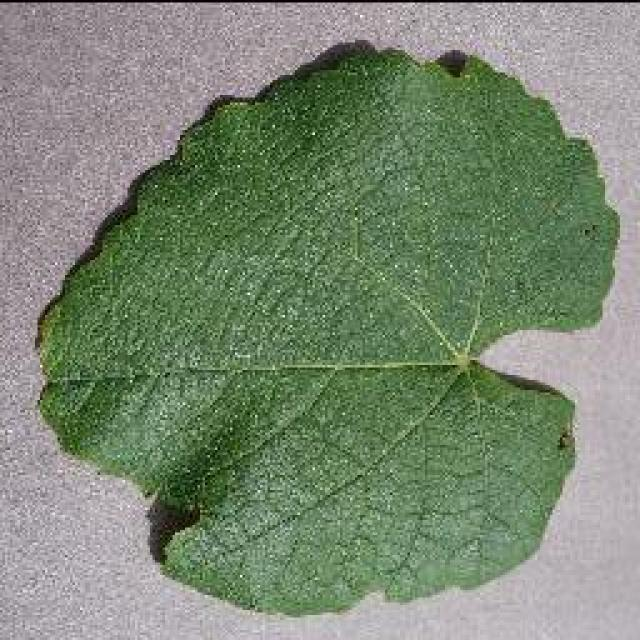Grape___healthy: (40, 50, 615, 610)
